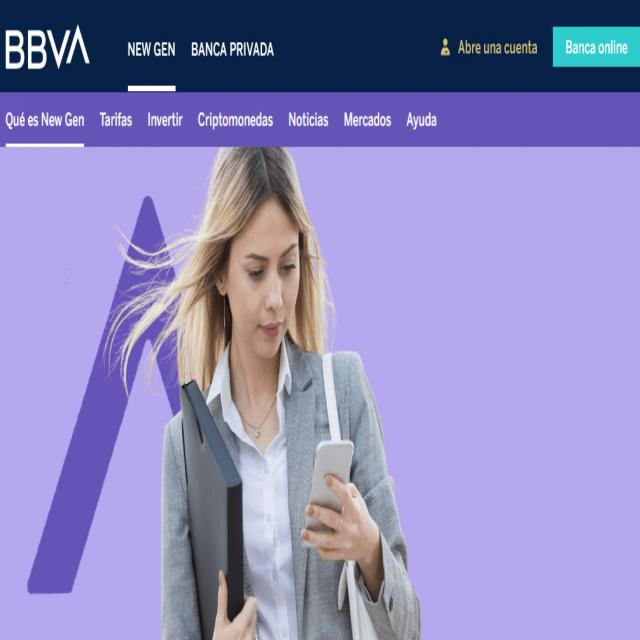BBVA: (5, 25, 90, 71)
